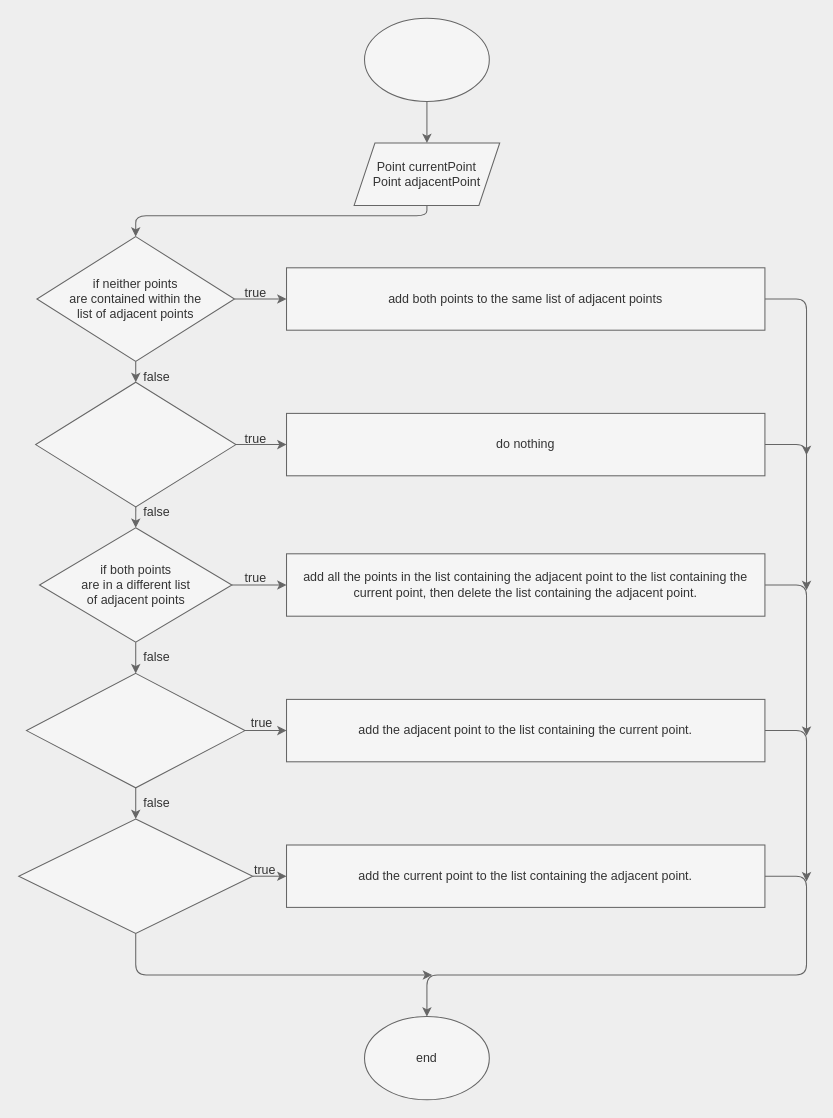
Image size: 833x1118. Some labels were removed from this diagram. Each missing label, with the box of its shape:
if both points are in the same list of adjacent points: (35, 381, 236, 507)
if the adjacent point is in a list but the current point is not: (18, 818, 253, 933)
if the current point is in a list but the adjacent point is not: (25, 672, 245, 788)
start: (363, 17, 489, 101)
